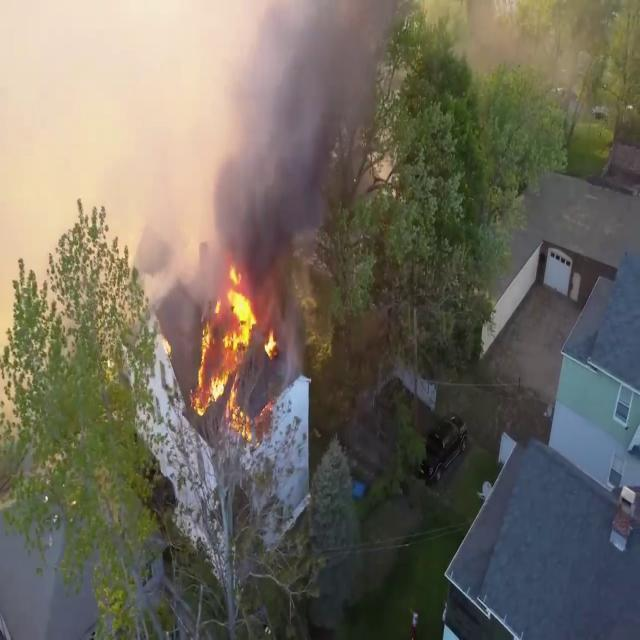Fire: (192, 266, 278, 426)
Smoke: (188, 2, 418, 291)
